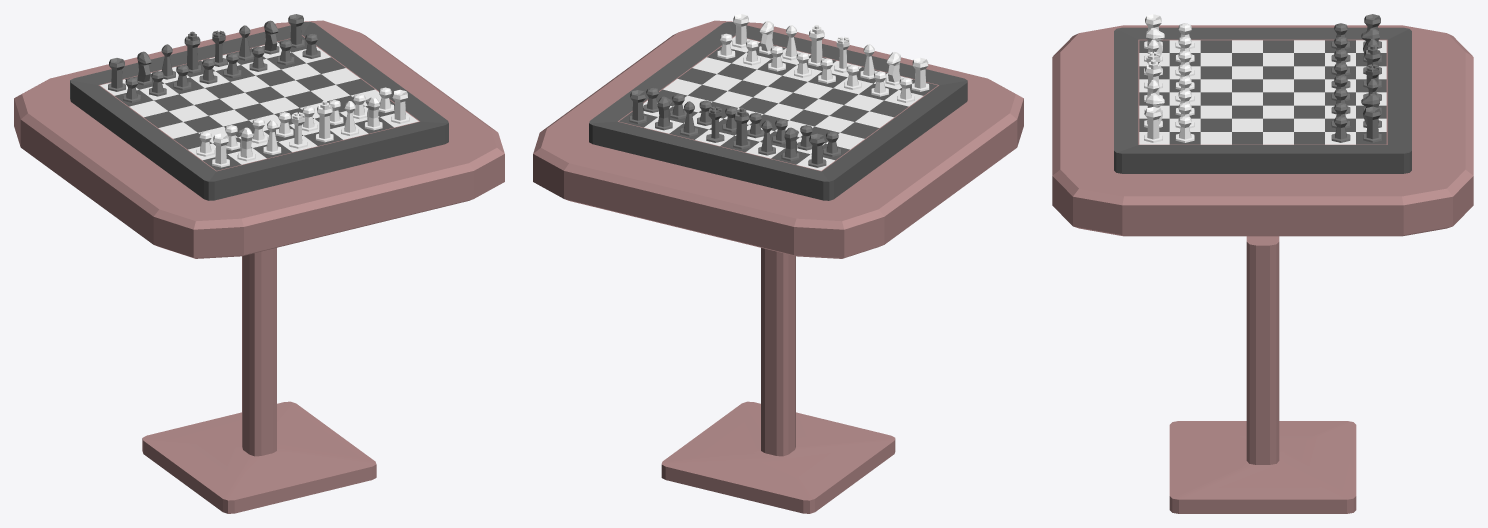
Rendered from Chess.fbx.
3 renders of one model, left to right at view 1: azimuth 30°, elevation 25°; view 2: azimuth 150°, elevation 25°; view 3: azimuth 270°, elevation 25°, orthographic. The views are drawn at different scales.
Visible parts, largest first — view 1: Chesstable, Chess 1; view 2: Chesstable, Chess 1; view 3: Chesstable, Chess 1.
Part boxes in pixels (x1=…): Chesstable: x1=14, y1=20, x2=504, y2=513; Chess 1: x1=70, y1=14, x2=448, y2=200; Chesstable: x1=533, y1=20, x2=1023, y2=513; Chess 1: x1=589, y1=14, x2=967, y2=200; Chesstable: x1=1052, y1=25, x2=1473, y2=513; Chess 1: x1=1114, y1=14, x2=1411, y2=173.
Bounding box in the file's own units: 78.13 × 86.56 × 78.13.
